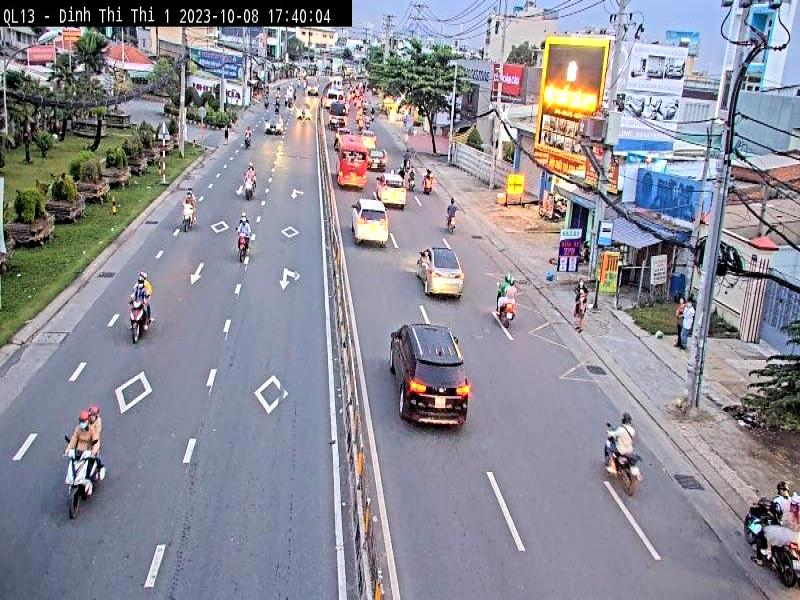car: (389, 320, 470, 431), (418, 246, 466, 302), (336, 130, 374, 194), (352, 195, 388, 246)
motorcycle: (743, 497, 800, 583), (61, 440, 93, 515), (125, 295, 147, 341)
